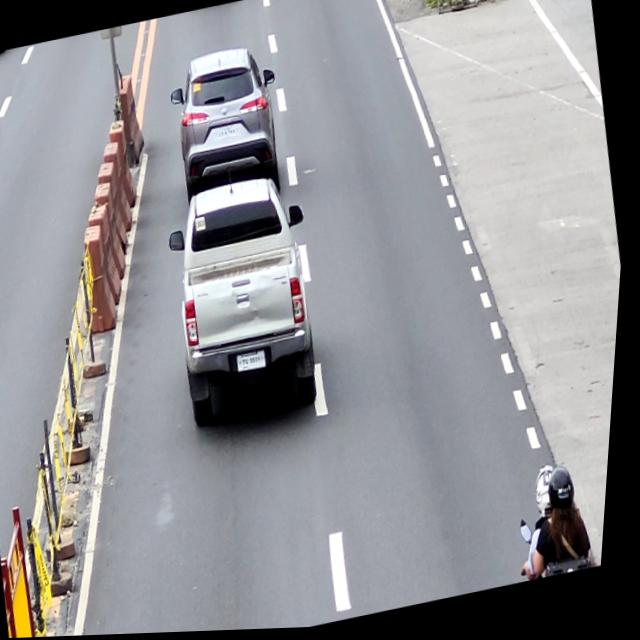Car: (153, 169, 343, 434), (159, 41, 298, 217)
License-Plate: (240, 351, 274, 376), (214, 126, 242, 143)
